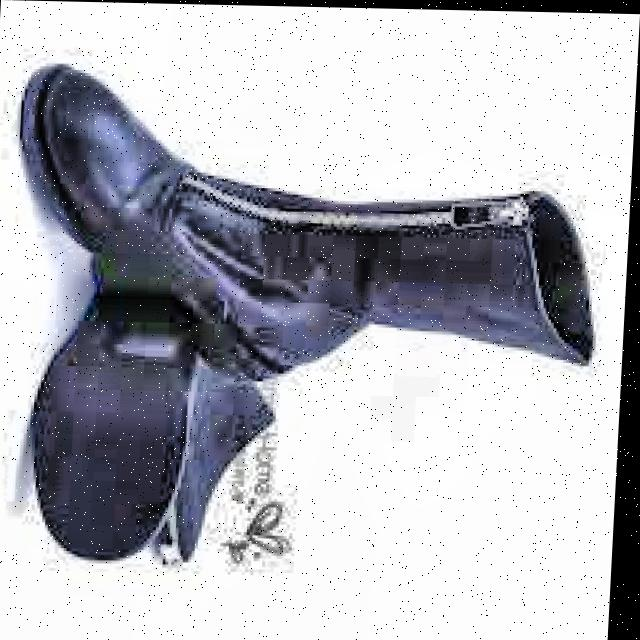shoes: (0, 40, 601, 588)
